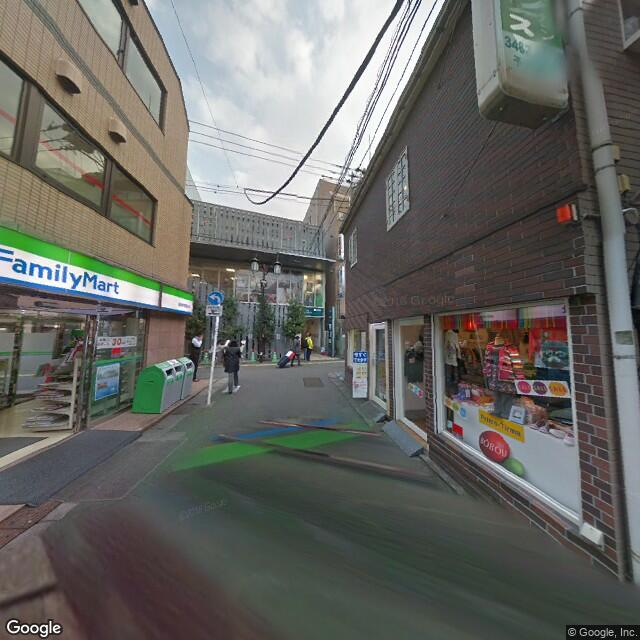family_mart: (1, 225, 192, 316), (1, 242, 124, 305)
